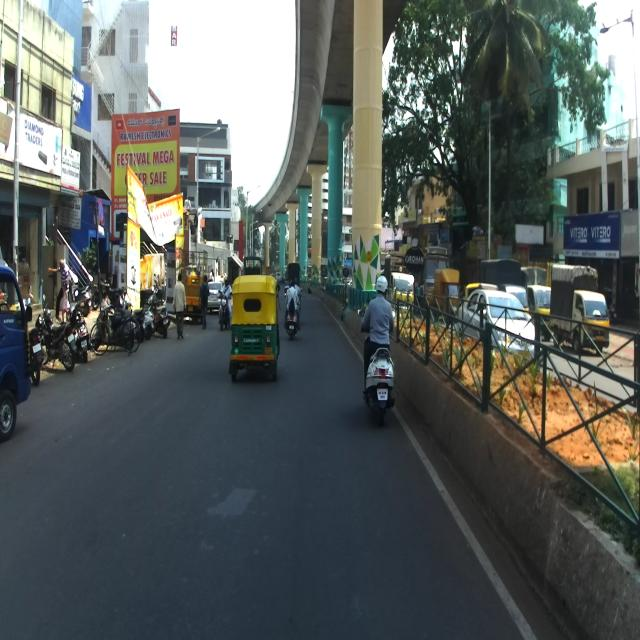auto ahead at: (234, 273, 278, 376)
motorcycle ahead at: (357, 336, 396, 427)
